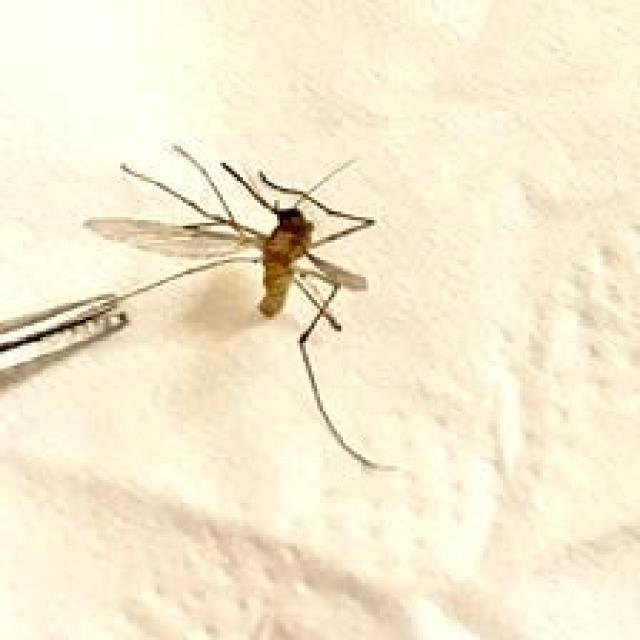Culex: (80, 140, 403, 474)
